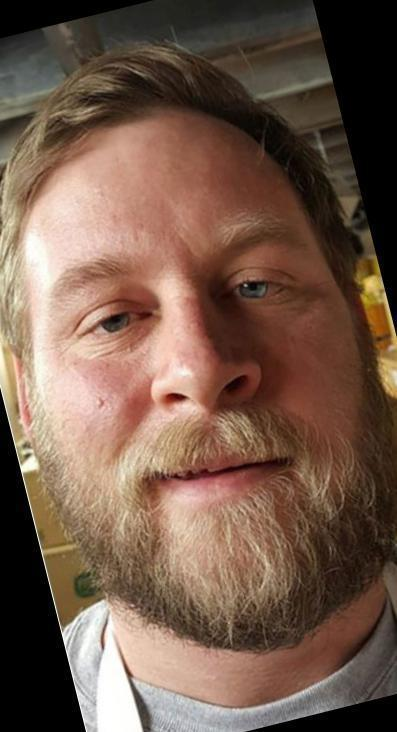Drunk: (24, 132, 373, 595)
